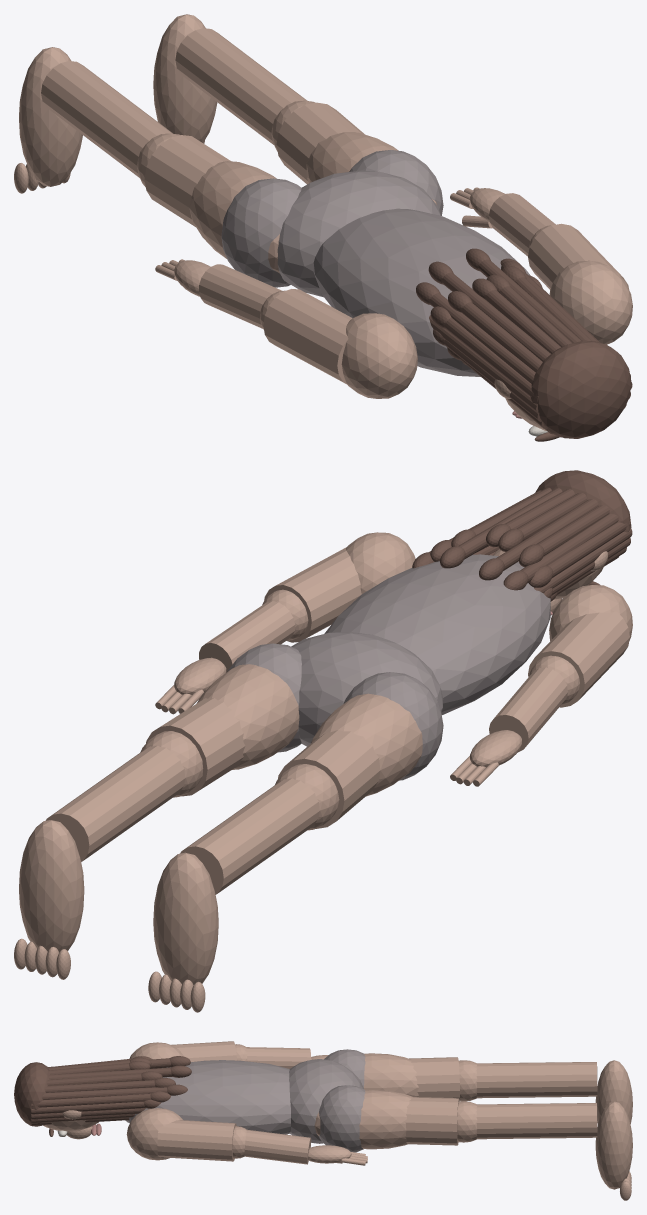
The model's file is B1_Nomad_Static.glb.
The picture shows the model from 3 angles, top to bottom: view 1: azimuth 30°, elevation 25°; view 2: azimuth 150°, elevation 25°; view 3: azimuth 270°, elevation 25°; orthographic projection. The views are drawn at different scales.
Parts seen in each view (by area): view 1: body_torso, pelvis, hair_cap, calf_L, calf_R, brief_R, deltoid_R, foot_R, upper_arm_R, deltoid_L, foot_L, leg_thigh_R (+19 smaller); view 2: body_torso, pelvis, calf_L, calf_R, foot_R, foot_L, upper_thigh_L, upper_thigh_R, upper_arm_R, leg_thigh_R, leg_thigh_L, upper_arm_L (+20 smaller); view 3: body_torso, calf_L, calf_R, pelvis, upper_arm_L, upper_thigh_L, foot_L, brief_L, leg_thigh_L, upper_thigh_R, forearm_L, leg_thigh_R (+22 smaller).
Boxes of the visible parts, bbox=[...] form: body_torso: bbox=[313, 208, 530, 376]; pelvis: bbox=[277, 170, 440, 297]; hair_cap: bbox=[530, 340, 631, 438]; calf_L: bbox=[175, 28, 307, 144]; calf_R: bbox=[41, 61, 172, 177]; brief_R: bbox=[221, 178, 301, 287]; deltoid_R: bbox=[341, 313, 417, 398]; foot_R: bbox=[19, 47, 82, 186]; upper_arm_R: bbox=[263, 289, 352, 384]; deltoid_L: bbox=[549, 260, 632, 344]; foot_L: bbox=[153, 14, 217, 142]; leg_thigh_R: bbox=[144, 135, 230, 226]; body_torso: bbox=[324, 554, 550, 714]; pelvis: bbox=[291, 631, 443, 746]; calf_L: bbox=[45, 745, 185, 861]; calf_R: bbox=[180, 778, 319, 894]; foot_R: bbox=[153, 852, 218, 984]; foot_L: bbox=[19, 820, 84, 952]; upper_thigh_L: bbox=[196, 664, 299, 769]; upper_thigh_R: bbox=[311, 693, 422, 796]; upper_arm_R: bbox=[528, 611, 629, 707]; leg_thigh_R: bbox=[278, 730, 380, 828]; leg_thigh_L: bbox=[146, 698, 245, 796]; upper_arm_L: bbox=[264, 547, 361, 642]; body_torso: bbox=[125, 1060, 290, 1134]; calf_L: bbox=[476, 1103, 597, 1139]; calf_R: bbox=[476, 1062, 597, 1098]; pelvis: bbox=[289, 1059, 363, 1143]; upper_arm_L: bbox=[157, 1120, 236, 1161]; upper_thigh_L: bbox=[314, 1090, 412, 1149]; foot_L: bbox=[595, 1101, 632, 1189]; brief_L: bbox=[319, 1085, 365, 1152]; leg_thigh_L: bbox=[405, 1097, 459, 1145]; upper_thigh_R: bbox=[363, 1053, 418, 1096]; forearm_L: bbox=[244, 1129, 311, 1164]; leg_thigh_R: bbox=[409, 1057, 459, 1099].
Size of the model in its own units: 0.6378 by 0.3309 by 1.65.
